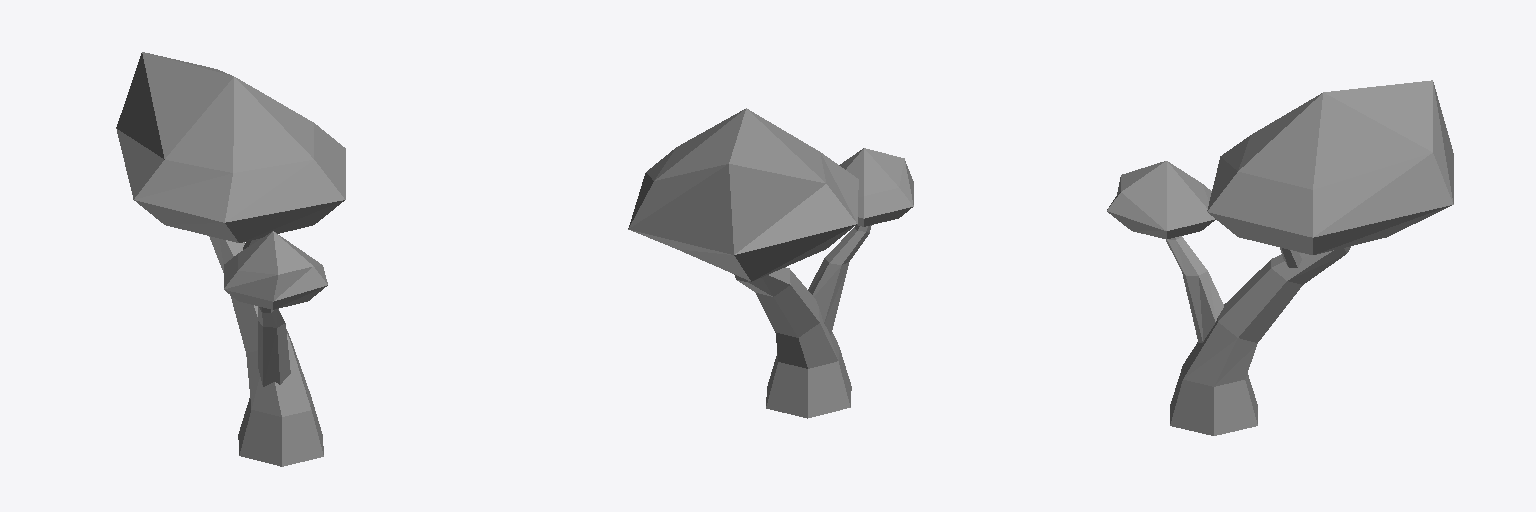
Rendered from Tree1.obj.
3 views of the same model, side by side, from view 1: azimuth 30°, elevation 25°; view 2: azimuth 150°, elevation 25°; view 3: azimuth 270°, elevation 25° (orthographic).
Parts seen in each view (by area): view 1: Palette; view 2: Palette; view 3: Palette.
Boxes of the visible parts, x1=… form: Palette: x1=116, y1=52, x2=345, y2=466; Palette: x1=628, y1=108, x2=913, y2=418; Palette: x1=1107, y1=80, x2=1453, y2=435.
Bounding box in the file's own units: 4.74 × 7 × 6.73.